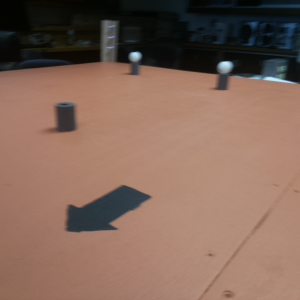corner: (98, 19, 121, 64)
obstacle: (54, 97, 75, 135), (216, 61, 233, 92), (128, 51, 142, 75)
start: (65, 182, 152, 235)
